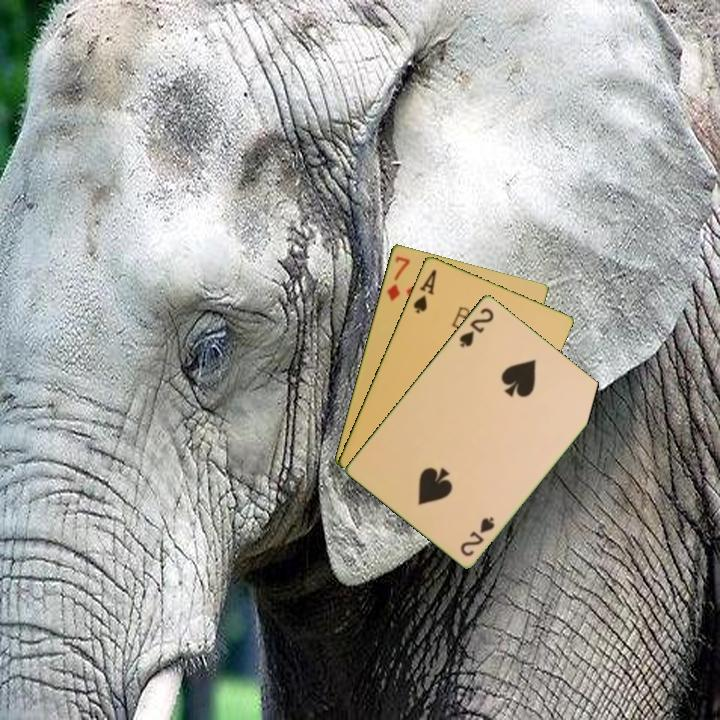2s: (456, 304, 497, 350), (457, 513, 498, 559)
7d: (383, 252, 413, 304)
As: (409, 265, 439, 316)
